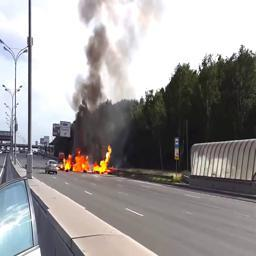fire: (62, 146, 113, 173)
